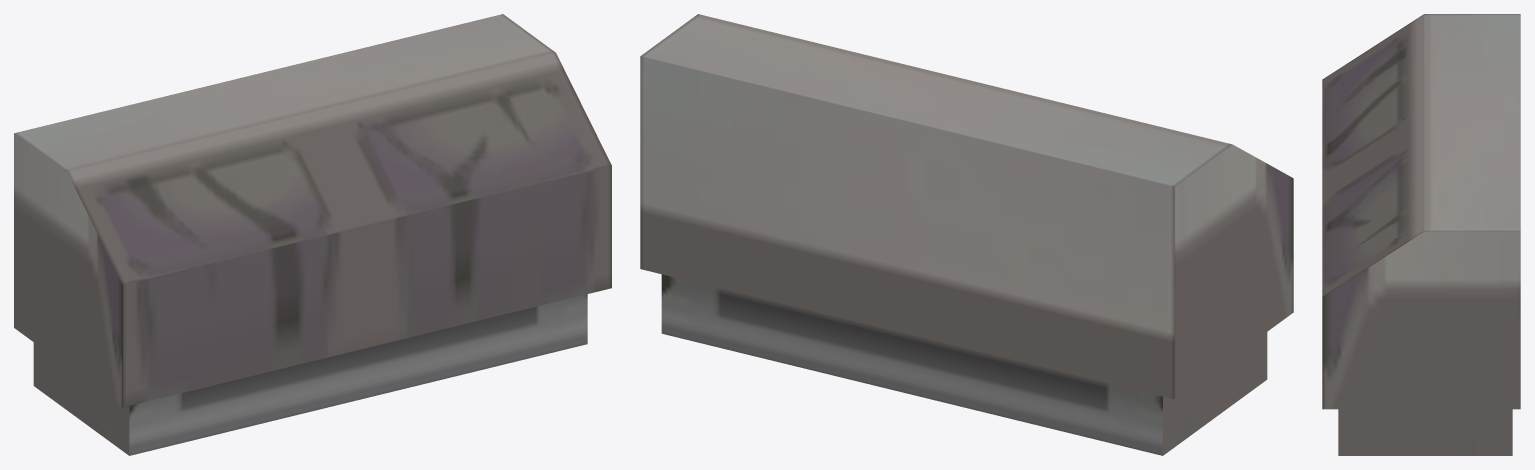
The model's file is Building_AncientDestroyedConsole.glb.
3 renders of one model, left to right at view 1: azimuth 30°, elevation 25°; view 2: azimuth 150°, elevation 25°; view 3: azimuth 270°, elevation 25°, orthographic. The views are drawn at different scales.
Parts seen in each view (by area): view 1: AncientDestroyedConsole; view 2: AncientDestroyedConsole; view 3: AncientDestroyedConsole.
Boxes of the visible parts, x1=… form: AncientDestroyedConsole: x1=14, y1=14, x2=611, y2=455; AncientDestroyedConsole: x1=640, y1=14, x2=1293, y2=455; AncientDestroyedConsole: x1=1322, y1=14, x2=1520, y2=455.
Size of the model in its own units: 1.92 by 0.95 by 0.74.
1 material, 1 textured.
